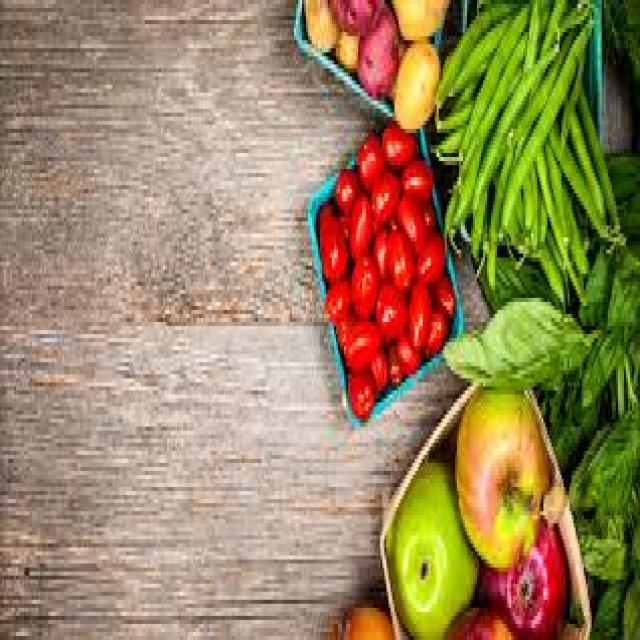organic waste: (483, 16, 590, 282), (449, 36, 555, 242), (453, 378, 545, 568), (535, 253, 638, 422), (443, 28, 525, 238), (382, 455, 475, 636), (499, 48, 578, 234), (438, 294, 588, 386), (477, 511, 566, 636), (431, 0, 533, 109), (459, 8, 527, 165), (551, 403, 638, 507), (439, 12, 545, 89), (549, 125, 618, 241), (535, 137, 582, 298), (566, 403, 638, 507), (582, 515, 638, 636), (577, 89, 618, 234), (475, 0, 587, 48), (475, 241, 547, 310), (564, 100, 602, 222), (390, 40, 439, 125), (356, 0, 397, 97), (602, 149, 638, 258), (483, 161, 509, 294), (600, 0, 638, 85), (435, 52, 481, 121), (576, 519, 626, 580), (602, 246, 638, 326), (467, 132, 487, 258), (324, 600, 392, 636), (548, 133, 564, 282), (386, 0, 444, 40), (528, 241, 564, 298), (320, 209, 346, 286), (387, 217, 412, 294), (380, 117, 414, 173), (342, 314, 378, 366), (445, 608, 511, 636), (372, 286, 407, 338), (326, 0, 382, 32), (590, 580, 622, 636), (396, 189, 424, 250), (414, 225, 442, 286), (302, 0, 336, 48), (357, 129, 382, 193), (422, 298, 448, 358), (564, 193, 584, 270), (371, 169, 398, 225), (351, 254, 376, 314), (346, 189, 368, 254), (404, 278, 424, 342), (344, 370, 372, 415), (400, 157, 430, 197), (324, 274, 350, 318), (332, 24, 356, 69), (334, 165, 358, 209), (371, 221, 388, 282), (536, 173, 548, 258), (622, 576, 638, 636), (394, 326, 416, 366), (366, 346, 386, 387), (433, 274, 453, 314), (435, 129, 463, 157), (522, 177, 532, 254), (334, 310, 350, 354), (314, 201, 330, 242), (384, 342, 398, 383), (418, 202, 431, 226)
